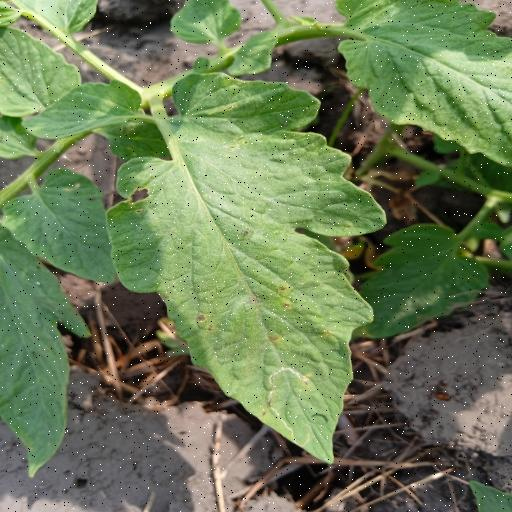Tomato_Brown_Spots: (94, 69, 378, 463), (332, 0, 512, 165)
